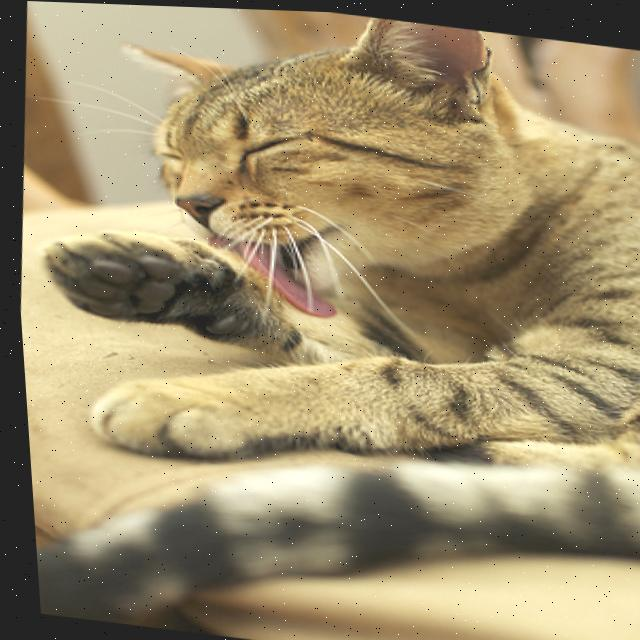Egyptian Mau: (3, 0, 640, 511)
